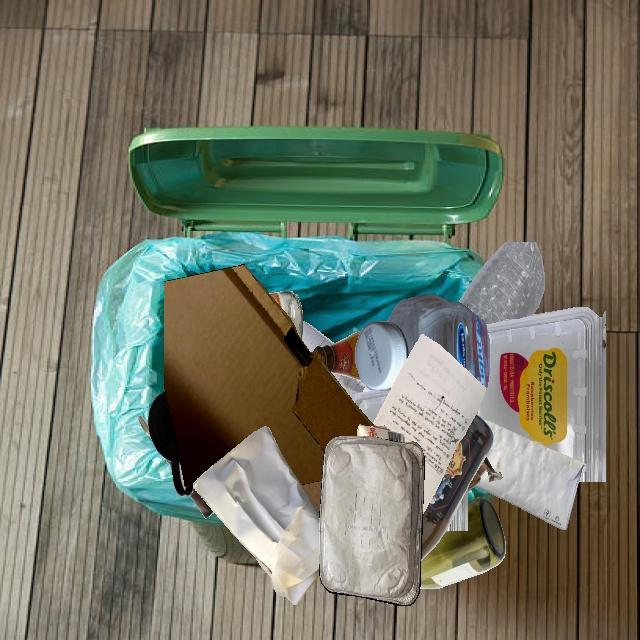cardboard: (164, 264, 374, 487), (468, 456, 502, 491), (357, 424, 405, 442), (301, 480, 322, 513)
glass: (421, 414, 494, 561), (420, 497, 506, 589), (312, 331, 362, 381), (269, 291, 303, 340)
metal: (319, 436, 424, 605)
paper: (193, 427, 320, 604), (373, 334, 486, 514), (475, 420, 584, 530), (301, 321, 334, 353), (331, 373, 366, 398), (190, 489, 214, 519)
plastic: (476, 307, 606, 482), (355, 294, 489, 392), (458, 242, 545, 324), (148, 391, 193, 496), (351, 390, 390, 424), (445, 486, 468, 531)
